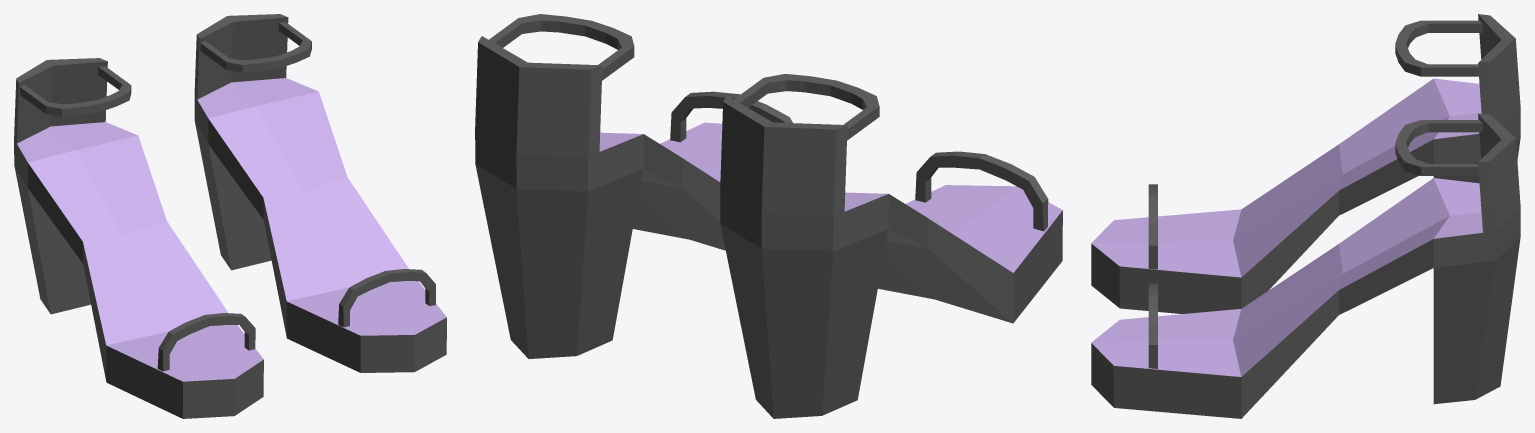
Rendered from Sandals_1.fbx.
The picture shows the model from 3 angles, left to right: view 1: azimuth 30°, elevation 25°; view 2: azimuth 150°, elevation 25°; view 3: azimuth 270°, elevation 25°; orthographic projection. The views are drawn at different scales.
Visible parts, largest first — view 1: Sandals_1; view 2: Sandals_1; view 3: Sandals_1.
Boxes of the visible parts, x1=… form: Sandals_1: x1=14, y1=14, x2=446, y2=418; Sandals_1: x1=475, y1=14, x2=1062, y2=418; Sandals_1: x1=1091, y1=14, x2=1520, y2=418.
Bounding box in the file's own units: 34.24 × 37.05 × 23.66.
